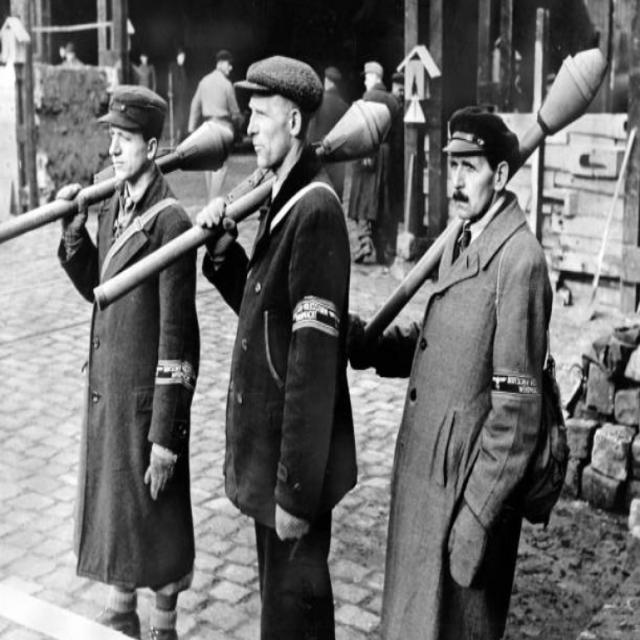bazooka: (359, 27, 622, 355), (90, 84, 419, 318), (1, 109, 241, 252)
